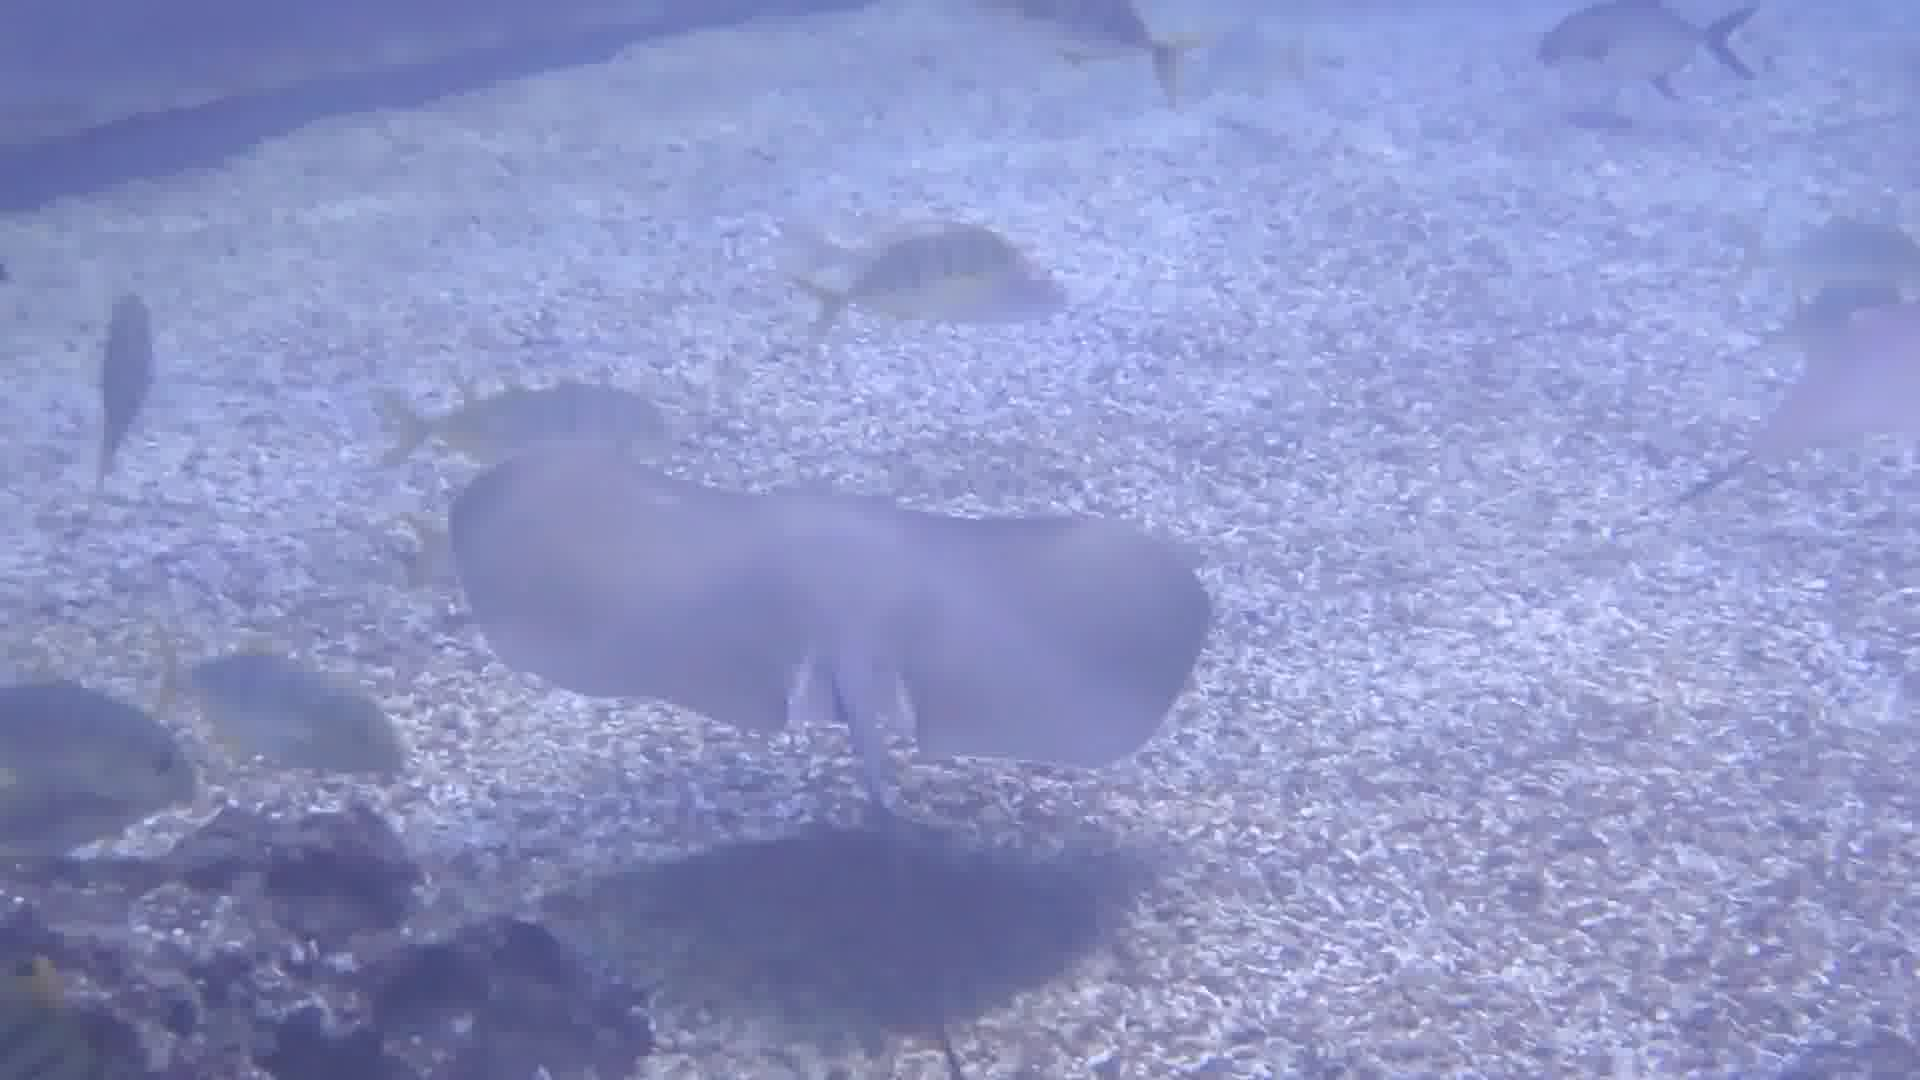Dasyatis akajei: (414, 440, 1240, 1080)
